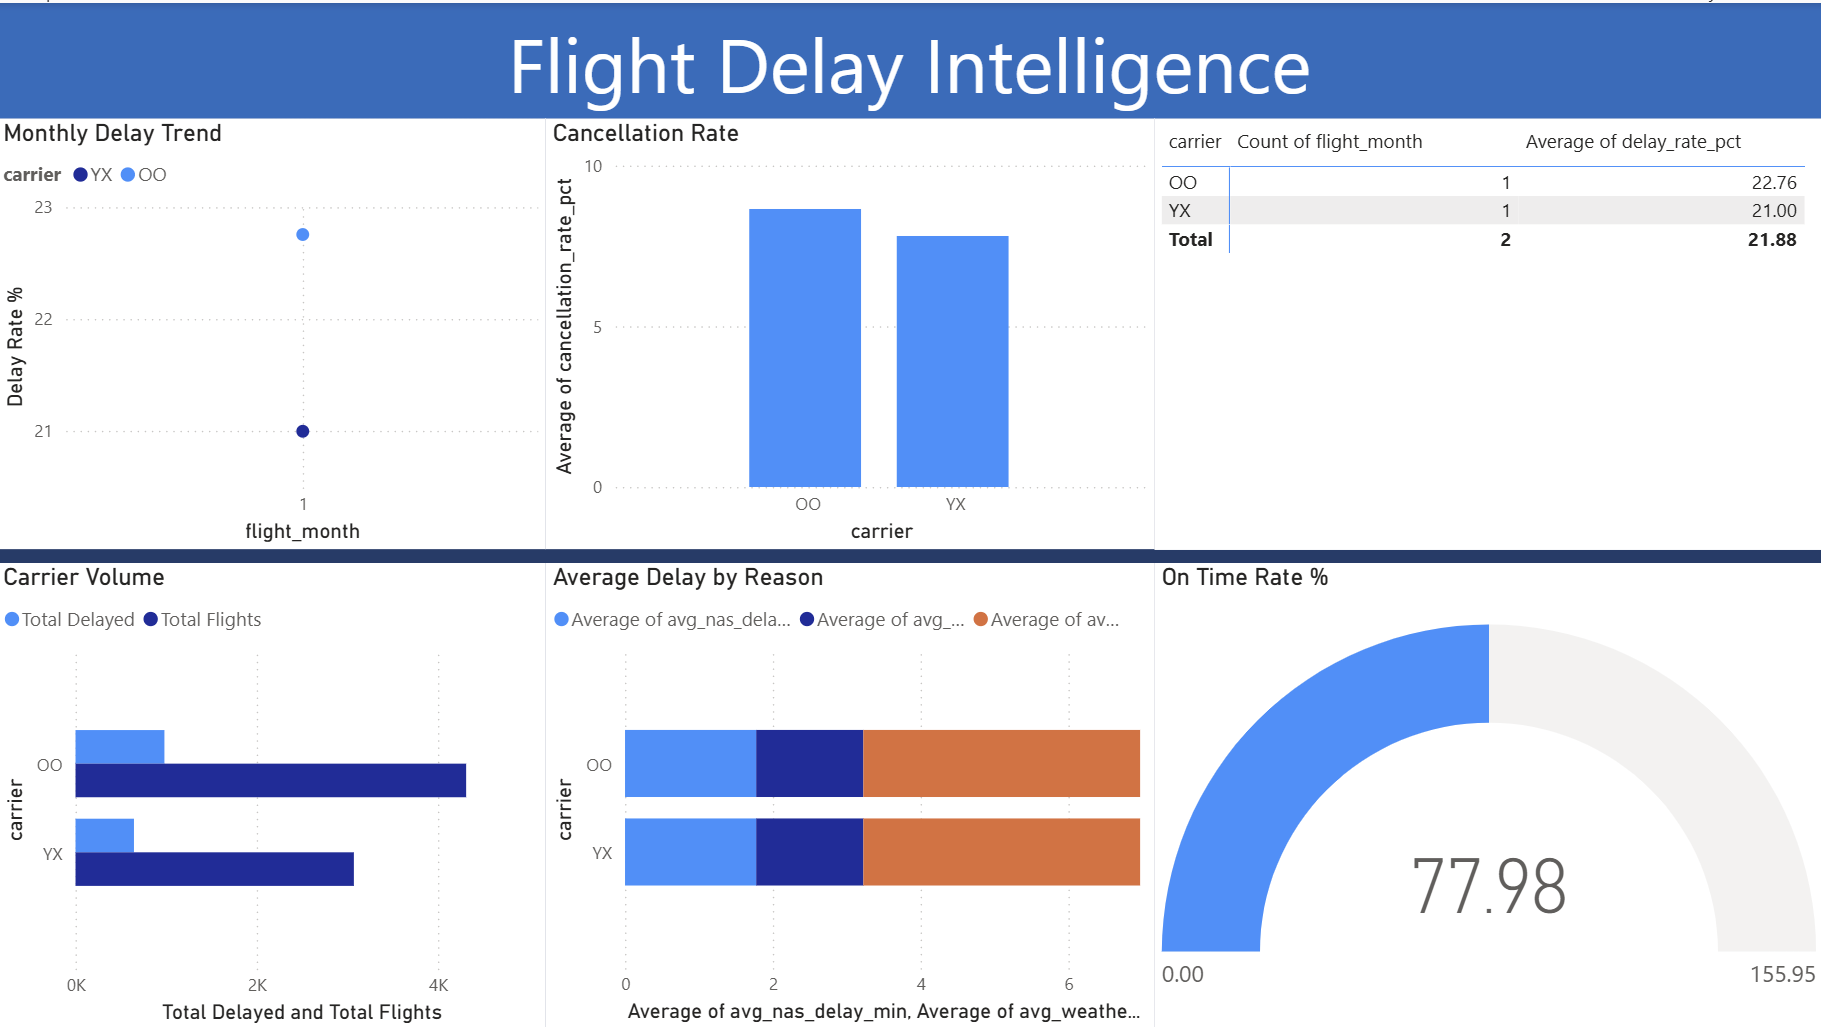

The page's visual inventory and layout, read from the dashboard file:
{"tool":"powerbi","page":{"name":"Carrier Performance","canvas":[1280,720],"ordinal":1},"visuals":[{"type":"textbox","box":[0,0,1280,80.9],"z":0},{"type":"lineChart","title":"Monthly Delay Trend","fields":{"Category":["mart_carrier_performance.flight_month"],"Y":["dim_airline.Delay Rate %"],"Series":["mart_carrier_performance.carrier"]},"box":[0,80.9,385,301.6],"z":1000},{"type":"clusteredBarChart","title":"Carrier Volume","fields":{"Y":["dim_airline.Total Delayed","dim_airline.Total Flights"],"Category":["mart_carrier_performance.carrier"]},"box":[0,392.3,385,327.4],"z":2000},{"type":"clusteredColumnChart","title":"Cancellation Rate","fields":{"Y":["Avg(mart_carrier_performance.cancellation_rate_pct)"],"Category":["mart_carrier_performance.carrier"]},"box":[385,80.9,426.7,301.6],"z":3000},{"type":"barChart","title":"Average Delay by Reason","fields":{"Category":["fact_flight_delays.carrier"],"Y":["Avg(mart_carrier_performance.avg_nas_delay_min)","Avg(mart_carrier_performance.avg_weather_delay_min)","Avg(mart_carrier_performance.avg_carrier_delay_min)"]},"box":[385,392,427,327],"z":4000},{"type":"gauge","fields":{"Y":["dim_airline.On Time Rate %"]},"box":[811.6,392.3,468.4,327.4],"z":5000},{"type":"pivotTable","fields":{"Rows":["mart_carrier_performance.carrier"],"Values":["CountNonNull(mart_carrier_performance.flight_month)","Avg(mart_carrier_performance.delay_rate_pct)"]},"box":[812,81,468,302],"z":6000}]}

Visuals, with their boxes in screenshot pixels (x1, y1, x2, y2), scaled from the page's 1280x720 canvas onto the 1821x1027 screenshot:
textbox: {"x1": 0, "y1": 0, "x2": 1820, "y2": 115}
"Monthly Delay Trend" lineChart: {"x1": 0, "y1": 115, "x2": 548, "y2": 546}
"Carrier Volume" clusteredBarChart: {"x1": 0, "y1": 560, "x2": 548, "y2": 1026}
"Cancellation Rate" clusteredColumnChart: {"x1": 548, "y1": 115, "x2": 1155, "y2": 546}
"Average Delay by Reason" barChart: {"x1": 548, "y1": 559, "x2": 1155, "y2": 1026}
gauge - dim_airline.On Time Rate %: {"x1": 1155, "y1": 560, "x2": 1820, "y2": 1026}
pivotTable - mart_carrier_performance.carrier x CountNonNull(mart_carrier_performance.flight_month): {"x1": 1155, "y1": 116, "x2": 1820, "y2": 546}
